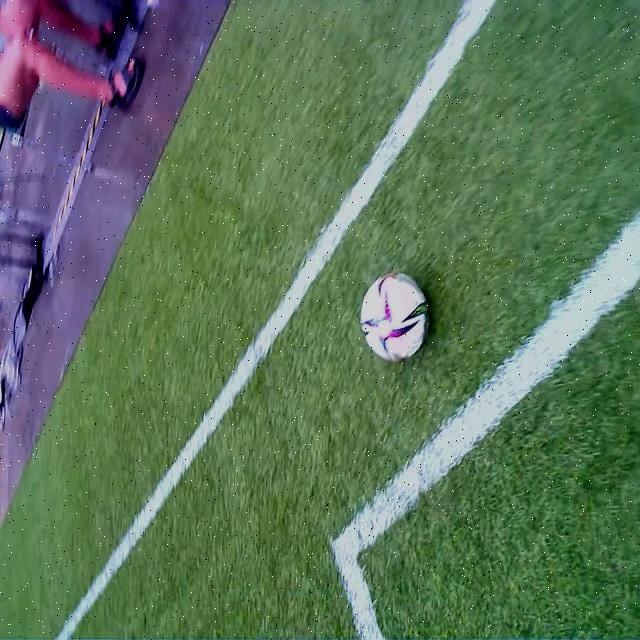ball: (362, 273, 429, 363)
